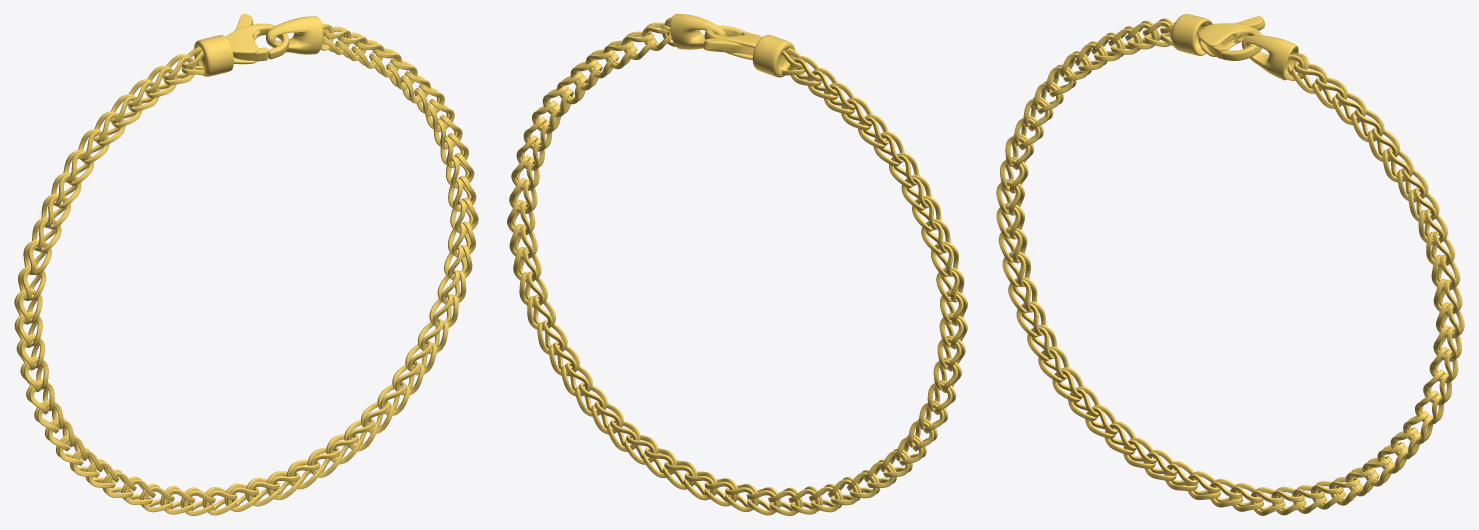
3 renders of one model, left to right at view 1: azimuth 30°, elevation 25°; view 2: azimuth 150°, elevation 25°; view 3: azimuth 330°, elevation 25°, orthographic.
Visible parts, largest first — view 1: Object_4, Object_2, Object_3, Object_5, Object_6, Object_7; view 2: Object_2, Object_4, Object_5, Object_3, Object_6, Object_7; view 3: Object_4, Object_3, Object_6, Object_5, Object_2, Object_7.
Part boxes in pixels (left/top/right/bottom): Object_4: left=181, top=14, right=462, bottom=149; Object_2: left=18, top=54, right=196, bottom=323; Object_3: left=14, top=117, right=478, bottom=392; Object_5: left=291, top=26, right=448, bottom=477; Object_6: left=59, top=436, right=321, bottom=515; Object_7: left=26, top=379, right=86, bottom=465; Object_2: left=789, top=56, right=964, bottom=324; Object_4: left=523, top=14, right=806, bottom=151; Object_5: left=531, top=22, right=692, bottom=477; Object_3: left=507, top=117, right=967, bottom=392; Object_6: left=662, top=435, right=921, bottom=515; Object_7: left=897, top=359, right=956, bottom=465; Object_4: left=1160, top=14, right=1447, bottom=244; Object_3: left=996, top=179, right=1464, bottom=424; Object_6: left=1038, top=348, right=1306, bottom=515; Object_5: left=1271, top=62, right=1432, bottom=513; Object_2: left=1000, top=18, right=1173, bottom=215; Object_7: left=1008, top=277, right=1069, bottom=379.
Size of the model in its own units: 0.059 by 0.0589 by 0.00765.
